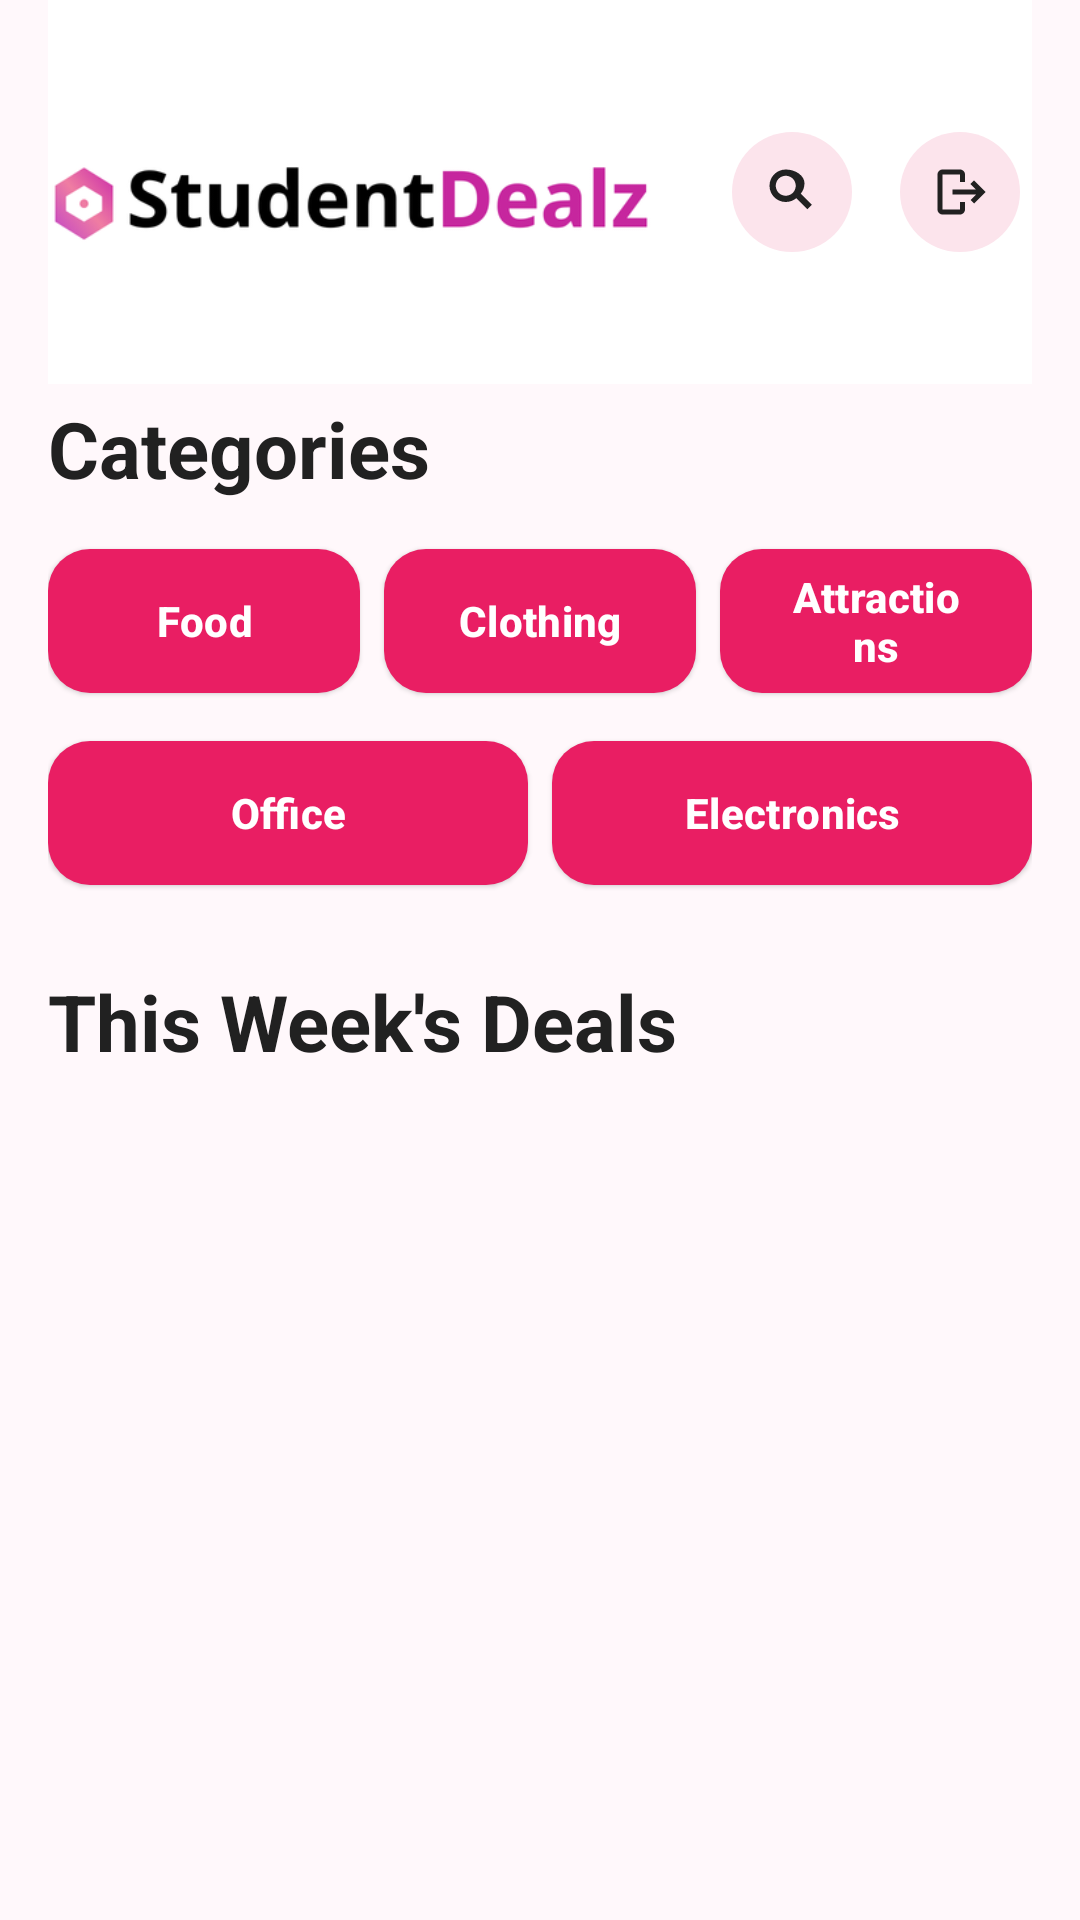

Icons on this 1080 x 1920 Android screen, each with the point to tap as [x,y]:
Search: [792,192]
